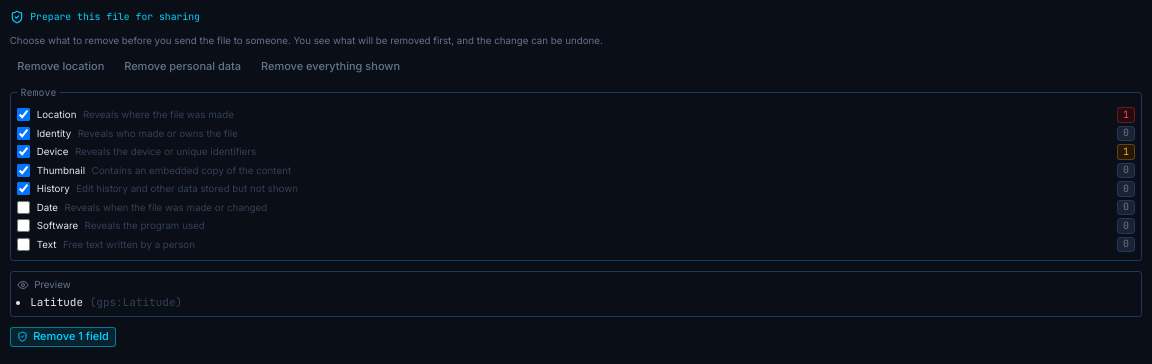
Test: Prepare for sharing › applying removes, pushes an undo entry and reports the result
expect the element labelled "Preview" is shown: met, box [10, 271, 1142, 317]
Click the button "Remove 1 field": [63, 337] box [10, 327, 116, 346]
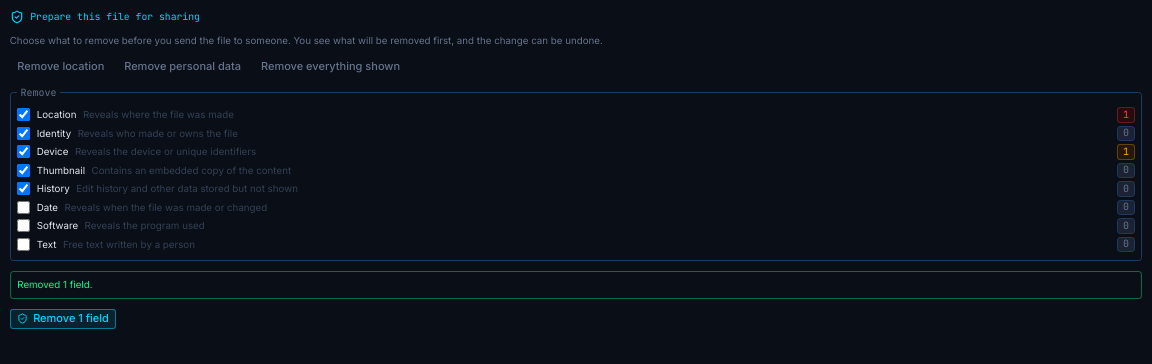
expect the message shows "Removed 1 field": met, box [10, 271, 1142, 299]
